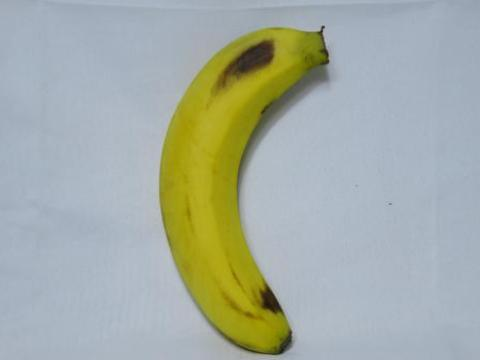freshripe: (143, 14, 347, 359)
